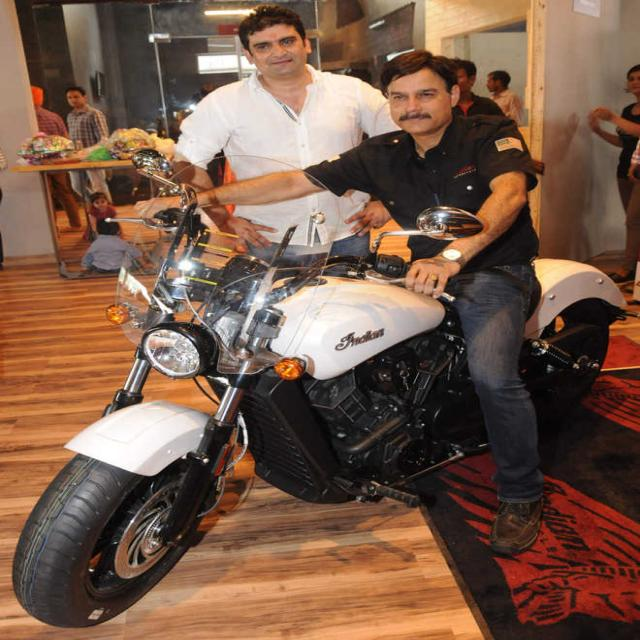motorcycle: (13, 50, 625, 626)
